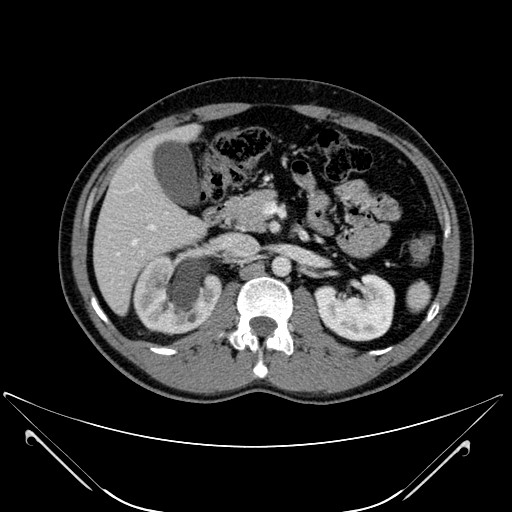vesicula: (151, 139, 203, 210)
